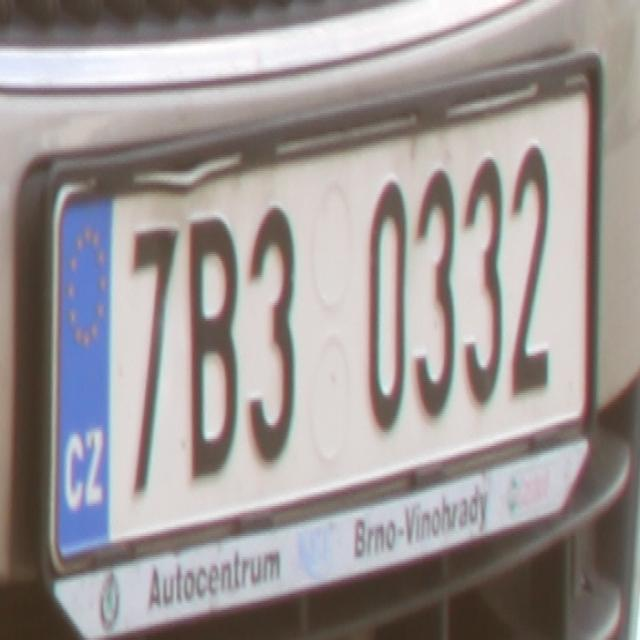0: (369, 182, 404, 444)
2: (511, 141, 552, 400)
3: (243, 203, 296, 474), (460, 150, 502, 407), (415, 168, 455, 428)
7: (123, 217, 174, 495)
B: (186, 212, 239, 483)
